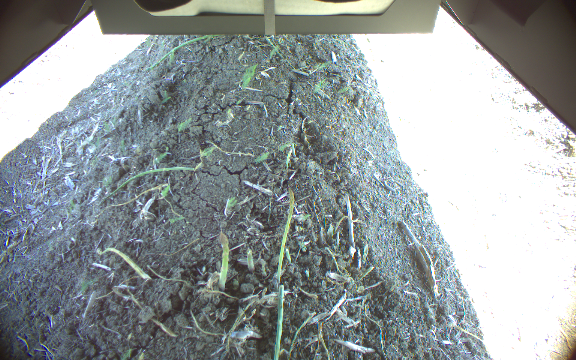aspa: (95, 246, 152, 282), (277, 189, 295, 276), (216, 231, 227, 290), (245, 247, 255, 271)
